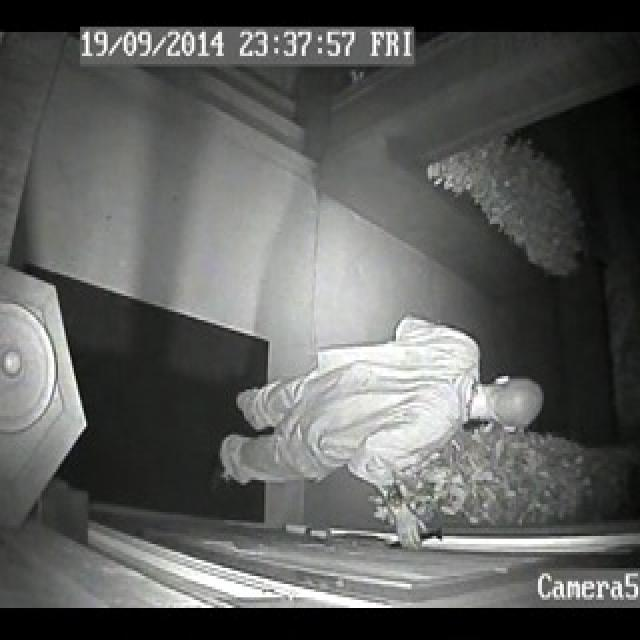thief: (220, 307, 548, 538)
